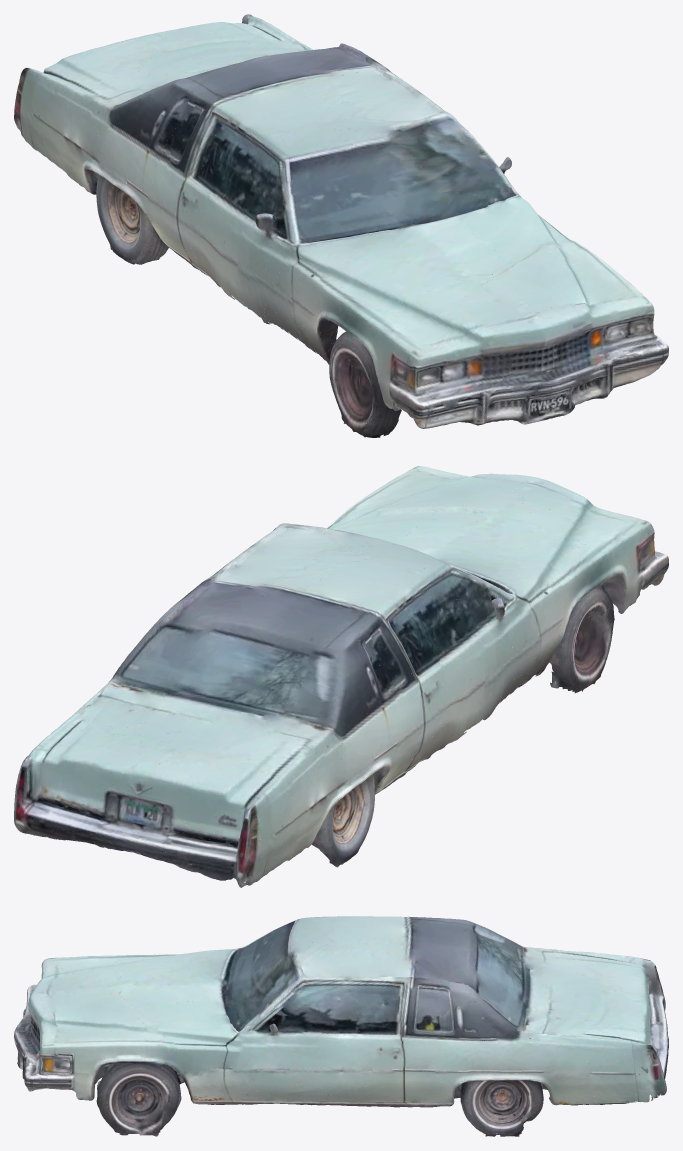
Rendered from cadillac__deville.glb.
3 views of the same model, one above another, from view 1: azimuth 30°, elevation 25°; view 2: azimuth 150°, elevation 25°; view 3: azimuth 270°, elevation 25° (orthographic). The views are drawn at different scales.
Visible parts, largest first — view 1: Object_4, Object_5, Object_3; view 2: Object_4, Object_5, Object_3; view 3: Object_4, Object_5, Object_3.
Boxes of the visible parts, x1=… form: Object_4: x1=21, y1=15, x2=666, y2=435; Object_5: x1=14, y1=14, x2=668, y2=437; Object_3: x1=15, y1=15, x2=668, y2=437; Object_4: x1=19, y1=466, x2=604, y2=887; Object_5: x1=15, y1=468, x2=668, y2=885; Object_3: x1=14, y1=476, x2=665, y2=887; Object_4: x1=14, y1=916, x2=667, y2=1136; Object_5: x1=15, y1=916, x2=668, y2=1136; Object_3: x1=16, y1=916, x2=666, y2=1135.
Size of the model in its own units: 1.92 by 1.42 by 5.56.
Materials: 1 (1 with a texture image).
